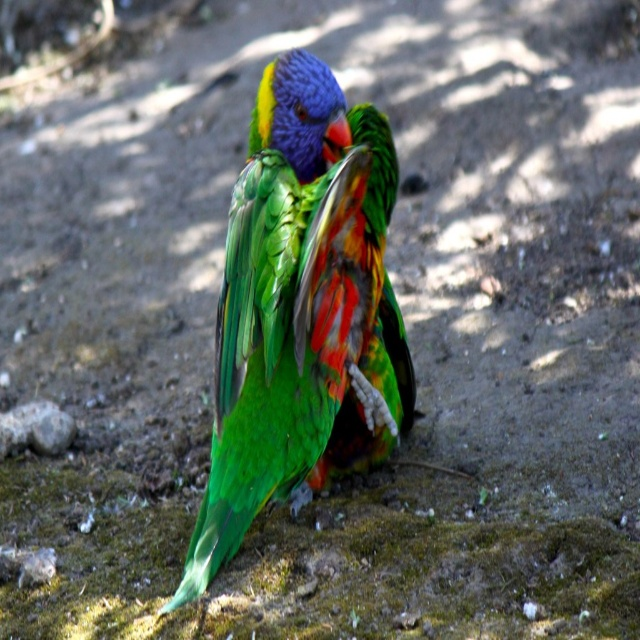Parrot: (154, 49, 415, 626)
